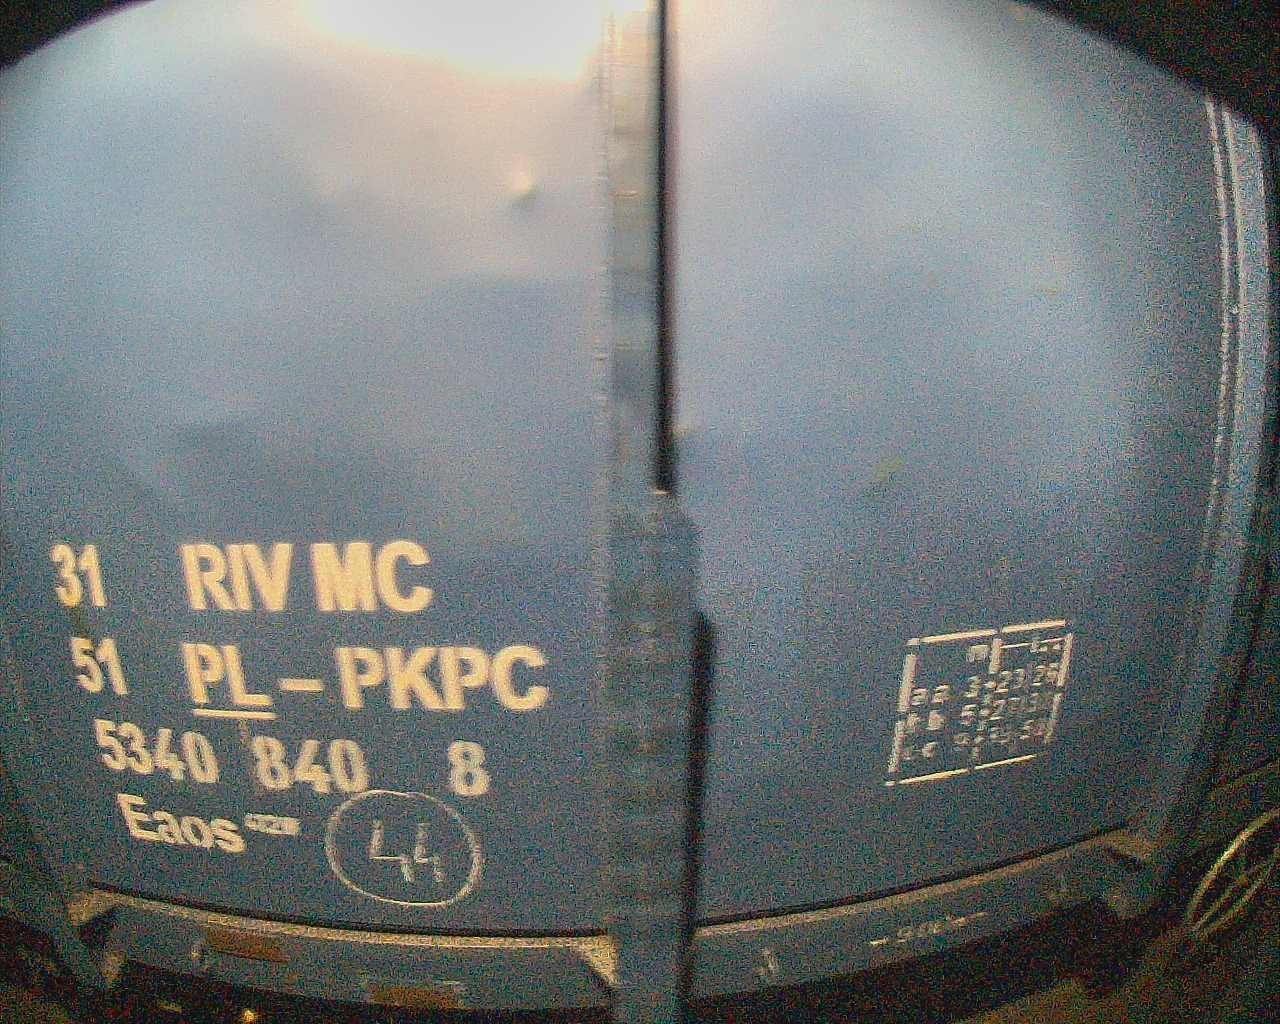UIC: (45, 536, 553, 859)
